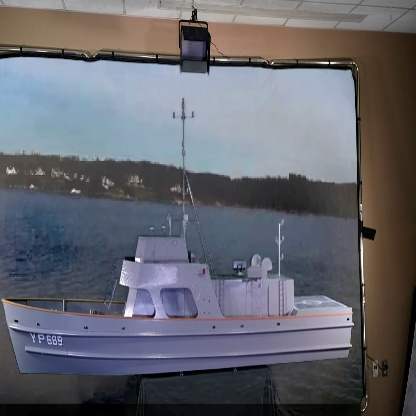YP689: (1, 80, 352, 378)
